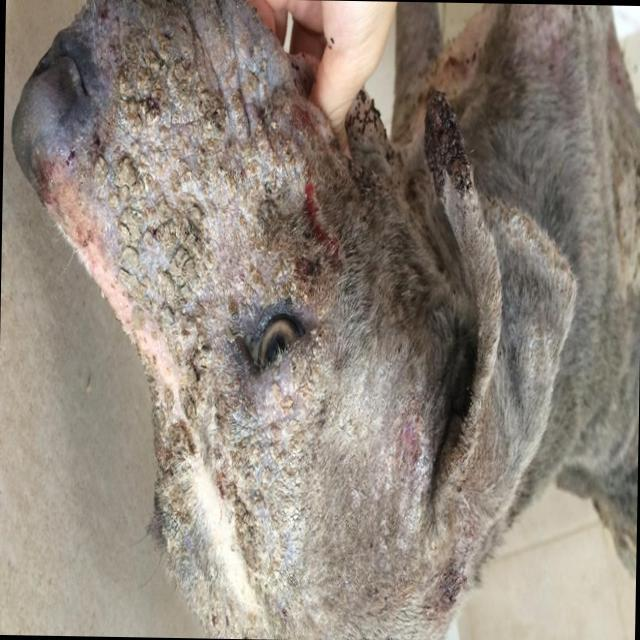mange: (51, 0, 371, 638)
